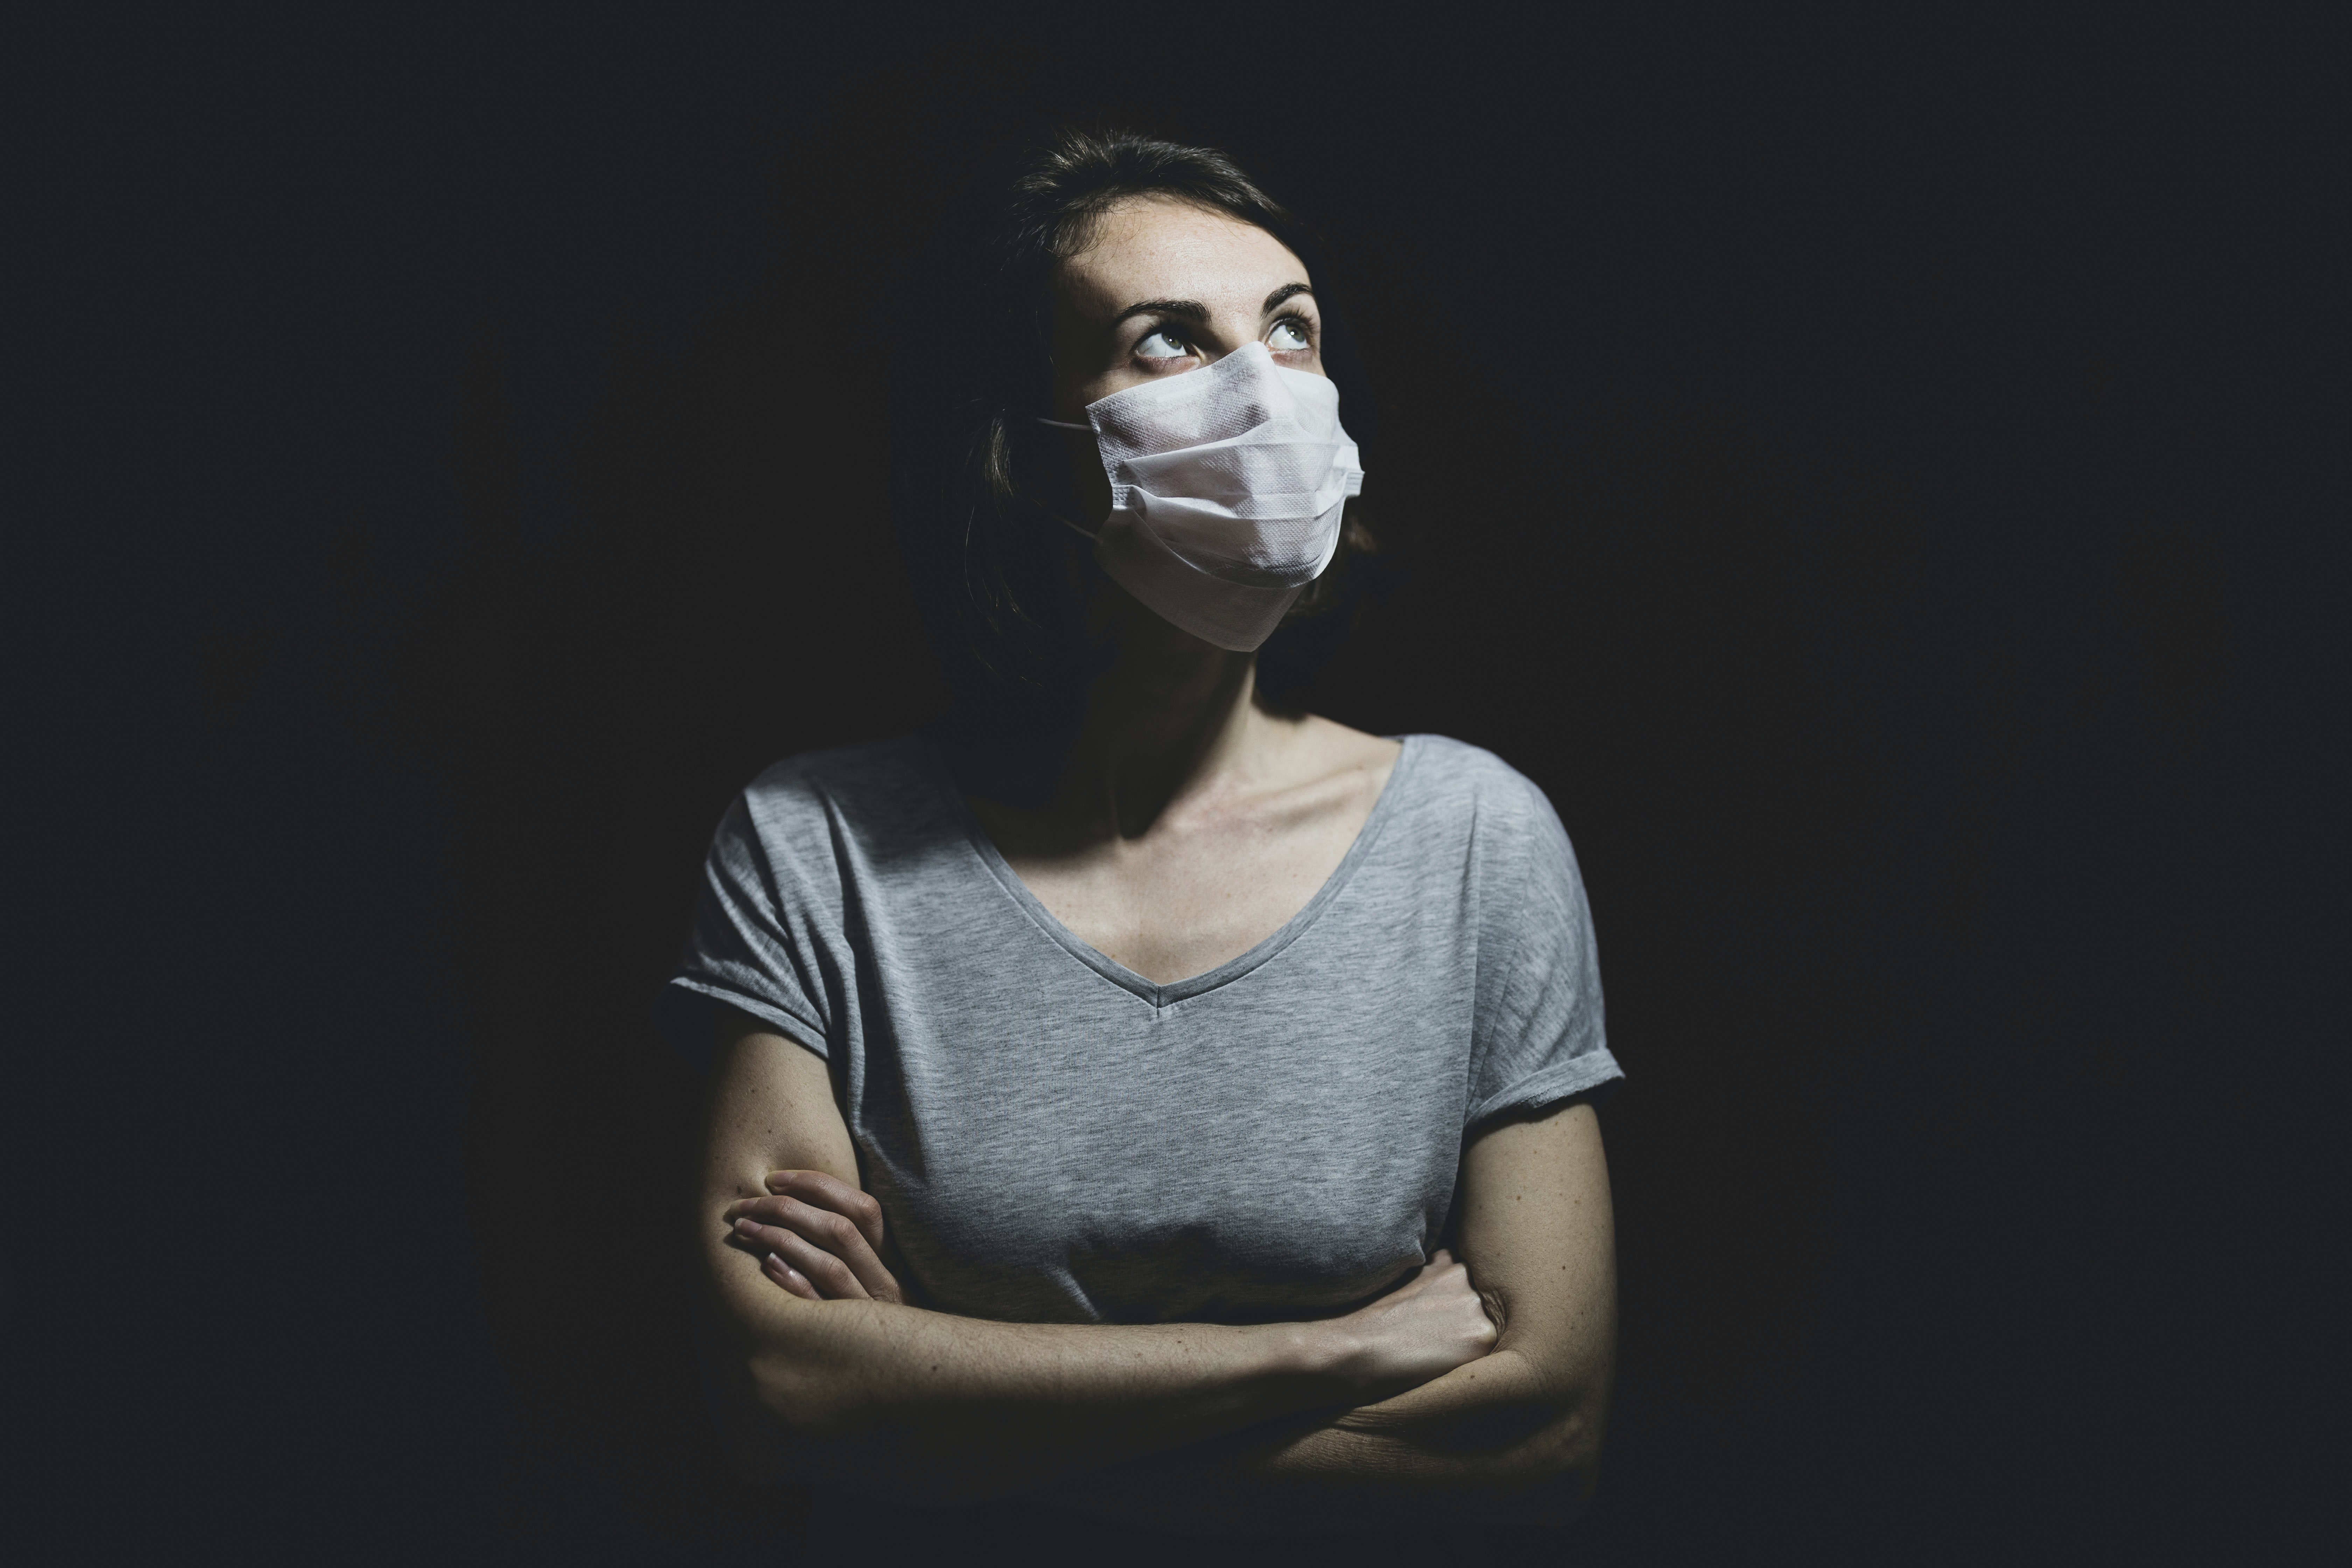mask: (1083, 356, 1384, 680)
person: (688, 114, 1643, 1568)
